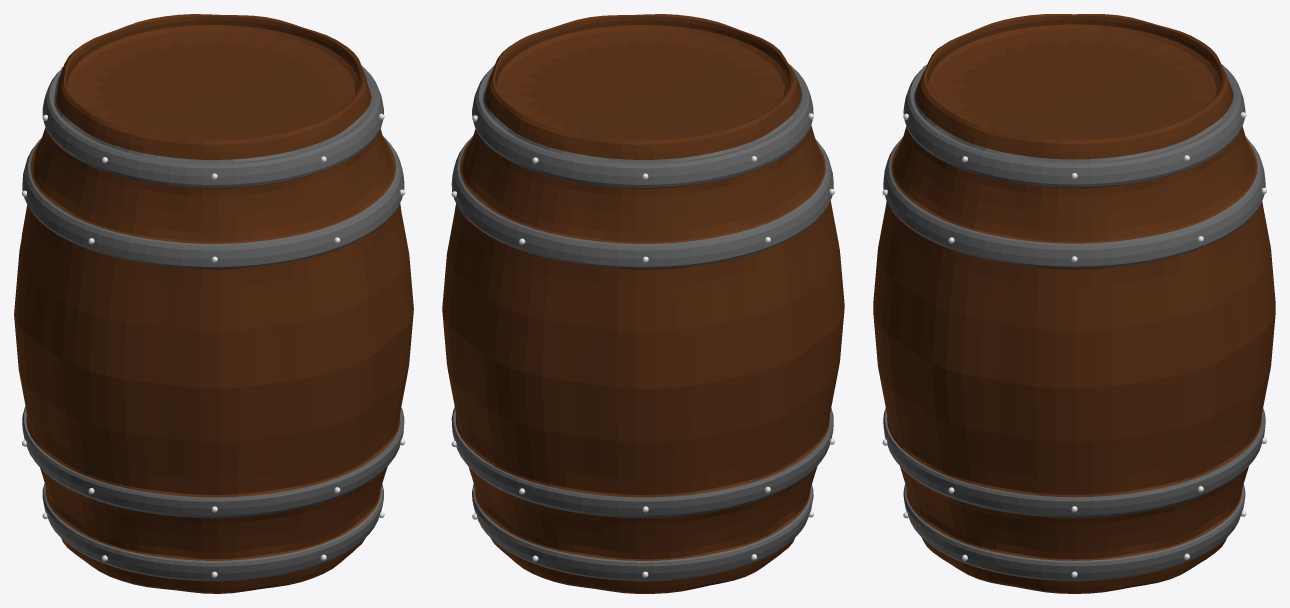
File: tonneau.fbx
The picture shows the model from 3 angles, left to right: view 1: azimuth 30°, elevation 25°; view 2: azimuth 150°, elevation 25°; view 3: azimuth 270°, elevation 25°; orthographic projection.
Visible parts, largest first — view 1: Cylindre; view 2: Cylindre; view 3: Cylindre.
Part boxes in pixels (box(x1,y1,x2,y2)): Cylindre: box(14, 14, 413, 593); Cylindre: box(442, 14, 844, 593); Cylindre: box(873, 14, 1275, 593).
Bounding box in the file's own units: 724 × 906 × 728.
